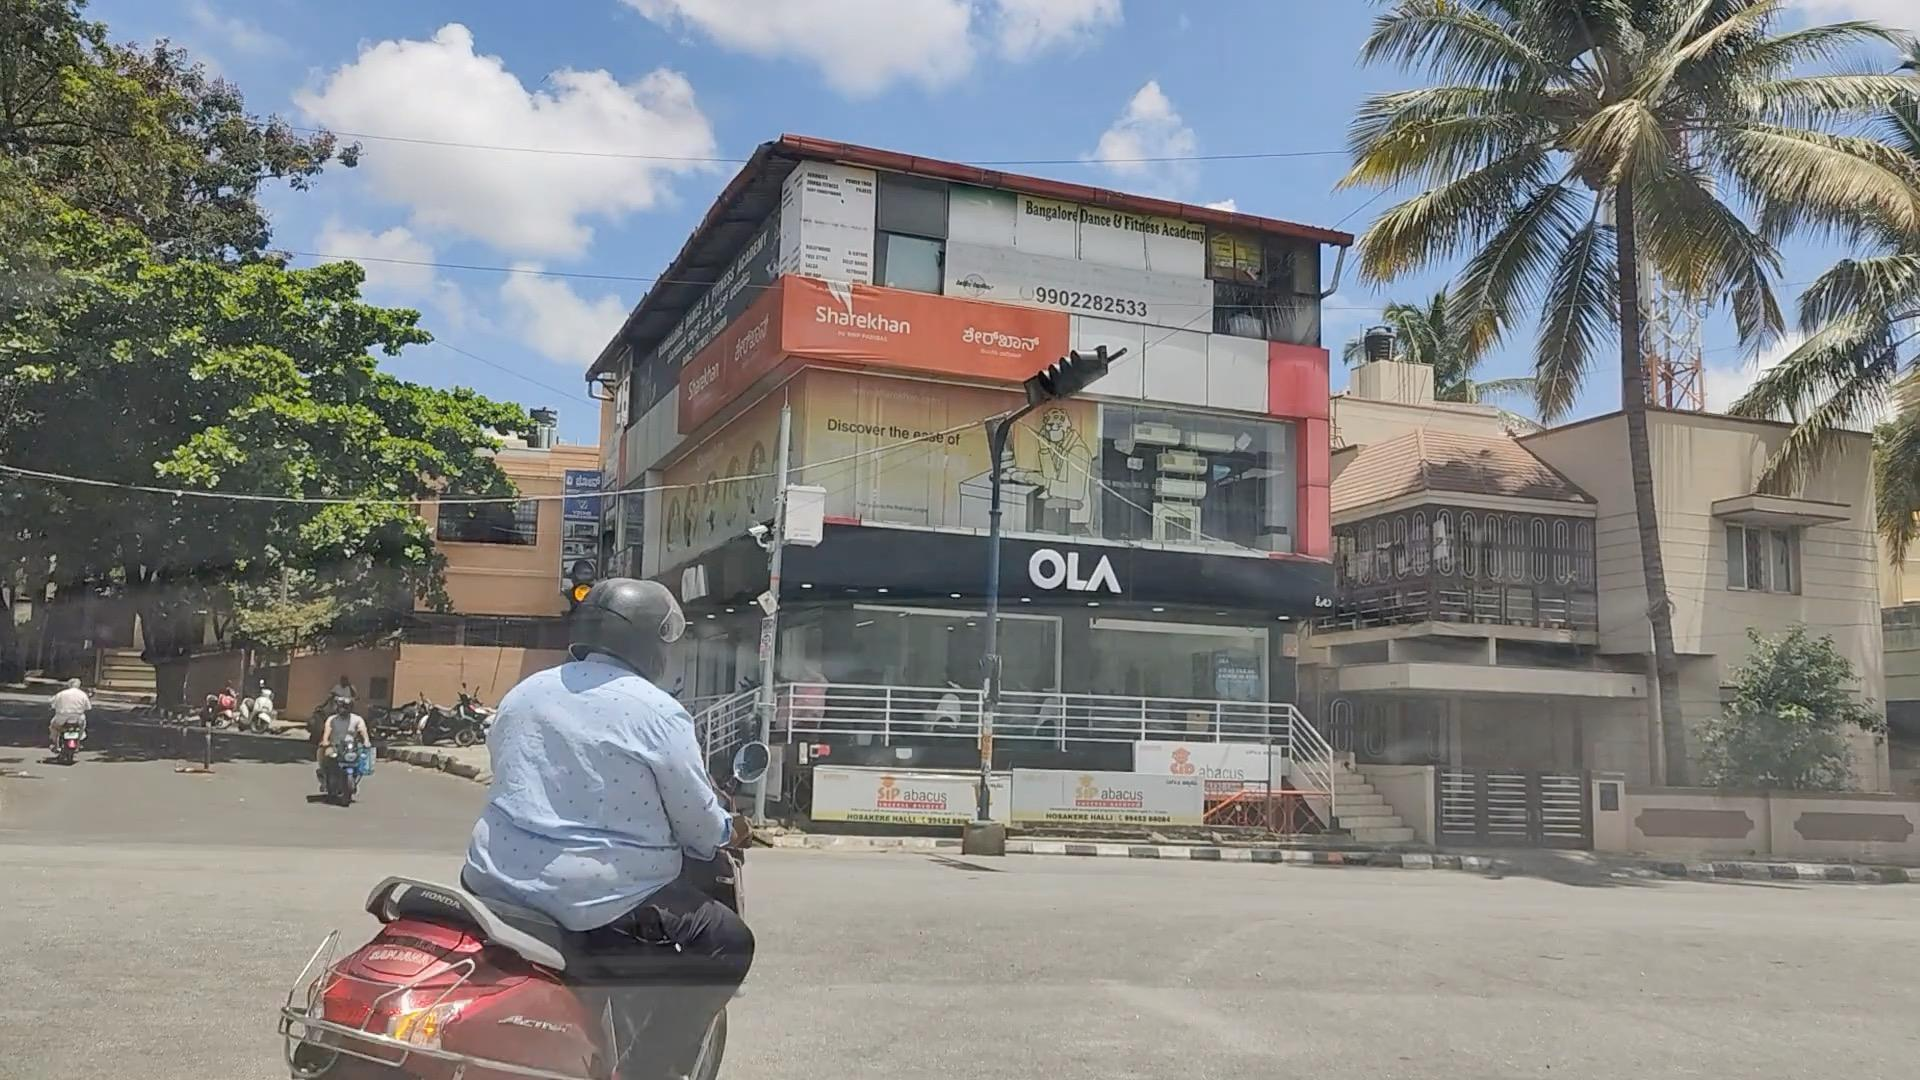LMV: (390, 583, 811, 1050)
